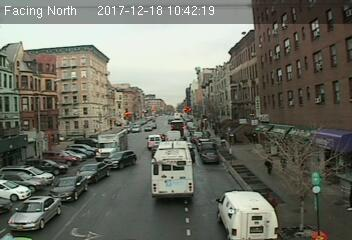bus: (149, 140, 195, 200)
car: (4, 193, 61, 231), (51, 176, 90, 204), (76, 163, 111, 184), (101, 152, 138, 169), (201, 149, 219, 163)
truck: (218, 189, 276, 240), (96, 129, 128, 158), (146, 135, 162, 149)
